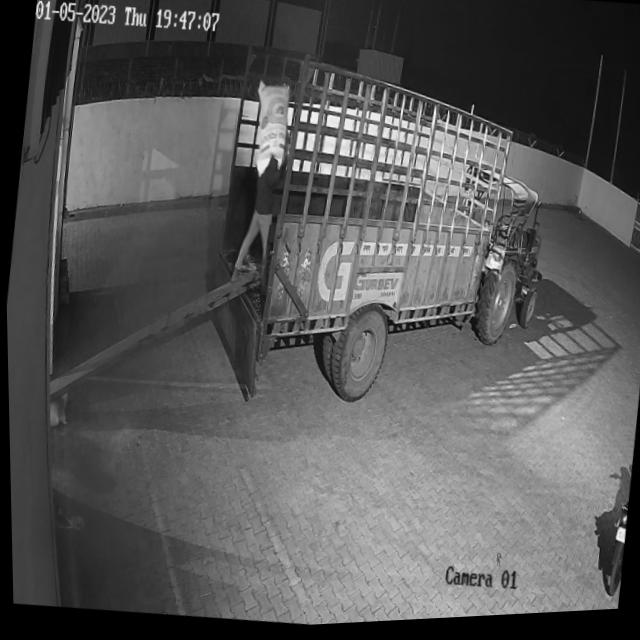sack: (246, 83, 292, 181)
